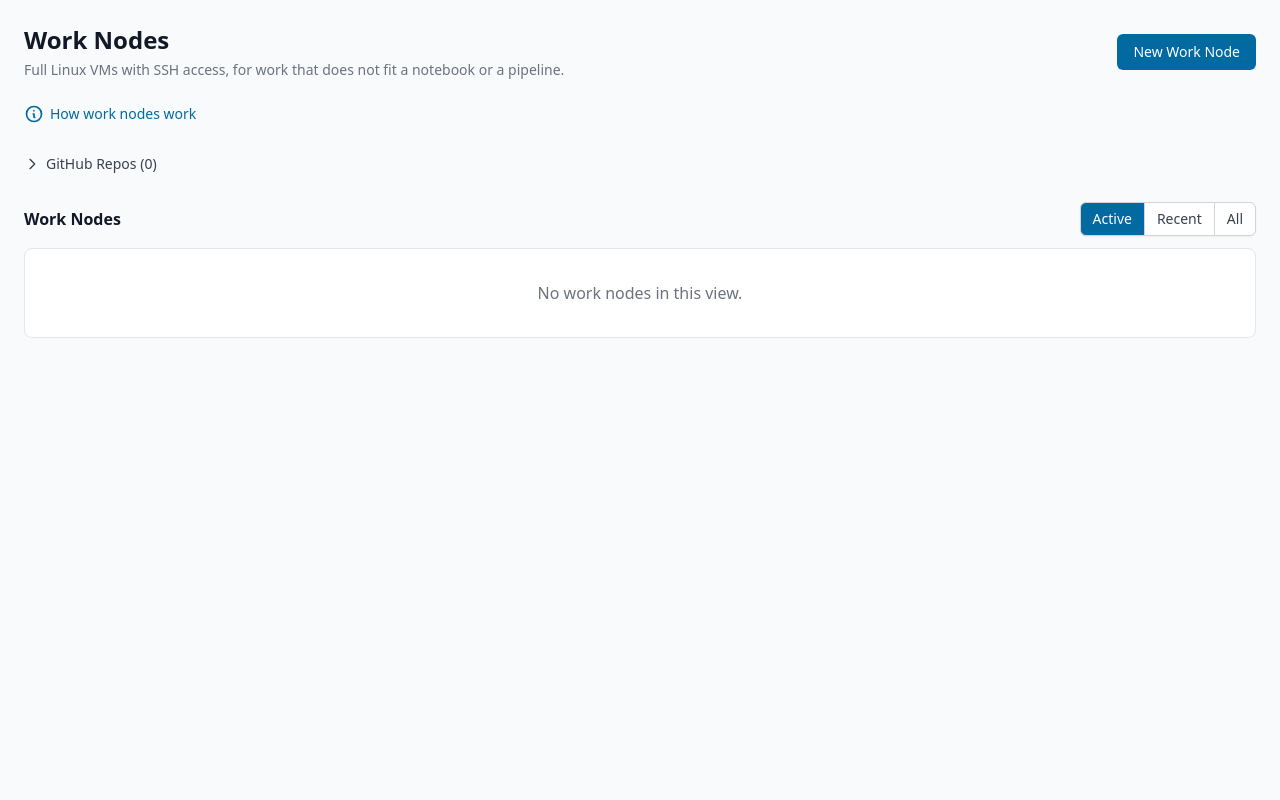
Test: WorkNodesPage scope toggle (Experiment / Project) › auto-shows the file picker (chip bar) when an experiment is selected; no 'Select files' button needed
Click the button "New Work Node". click: (1187, 52)
box: [1117,34,1256,70]
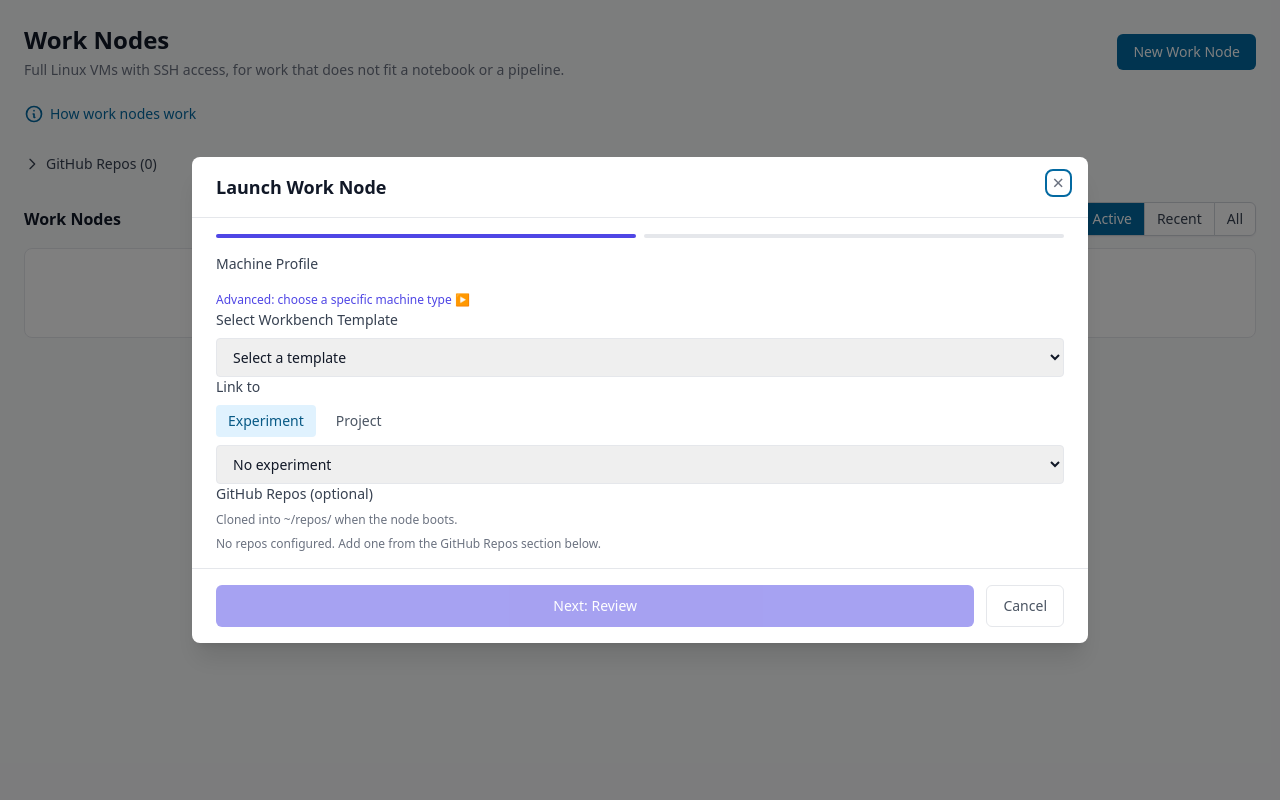
Result: the heading "Machine Profile" is shown at [216,254,318,273]
Select "Experiment Beta (BETA)" in the dropdown named "Select experiment". click: (640, 464)
box: [216,445,1064,484]
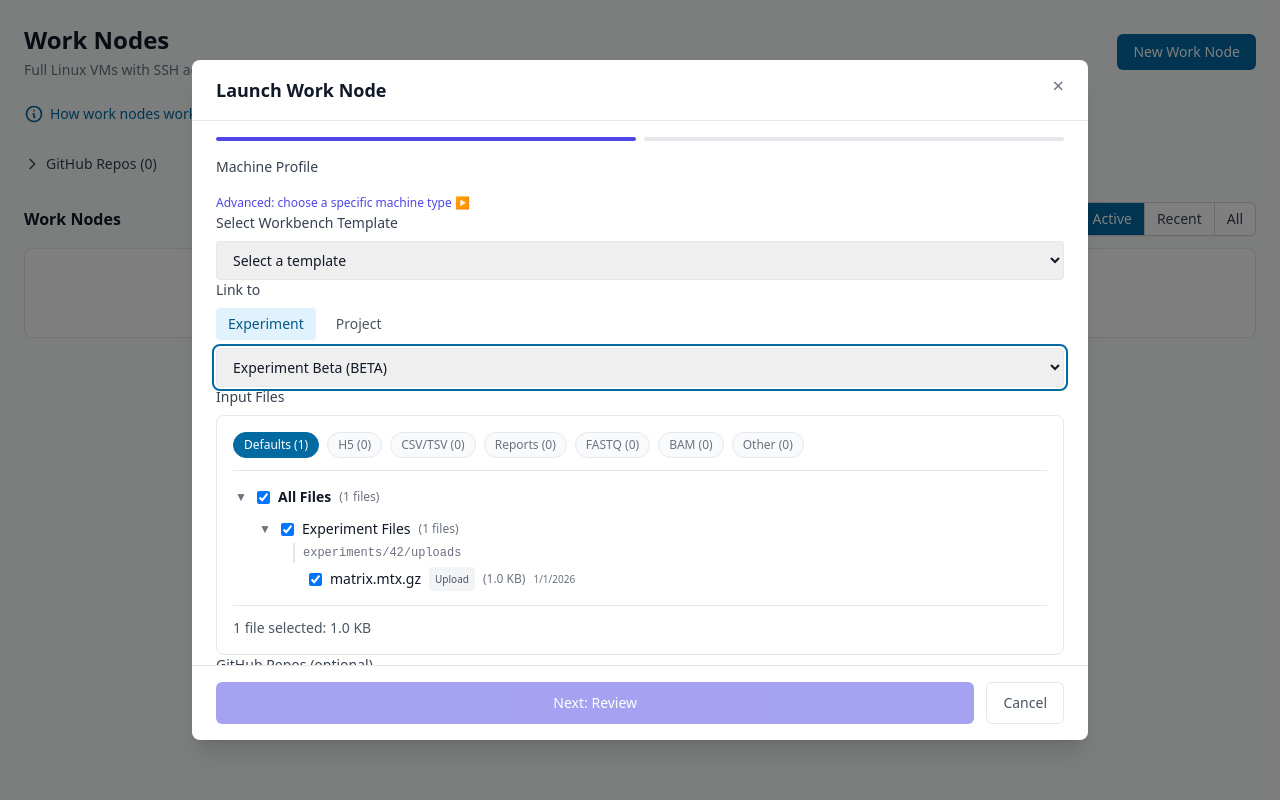
Result: the element named "file type filters" is shown at [233,432,1047,471]
